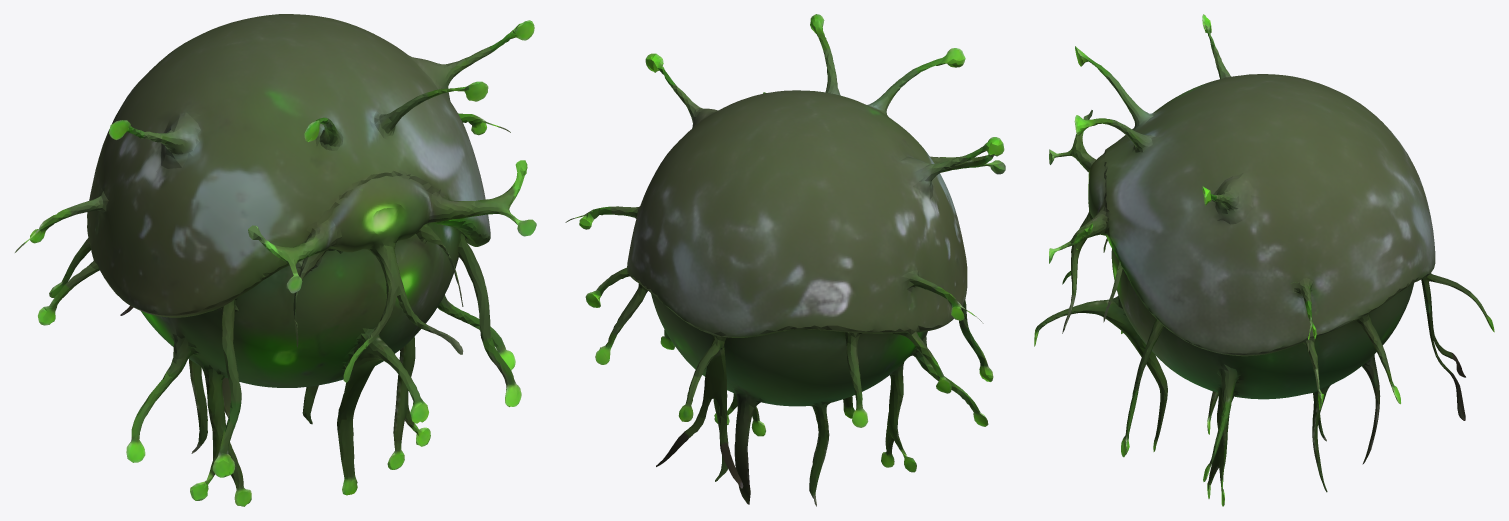
The model's file is bloom_drone_hifi.glb.
3 views of the same model, side by side, from view 1: azimuth 30°, elevation 25°; view 2: azimuth 150°, elevation 25°; view 3: azimuth 270°, elevation 25° (orthographic). The views are drawn at different scales.
Parts seen in each view (by area): view 1: bloom_drone_hifi; view 2: bloom_drone_hifi; view 3: bloom_drone_hifi.
Part boxes in pixels (<box>): bloom_drone_hifi: <box>15,14,536,506</box>; bloom_drone_hifi: <box>565,14,1005,506</box>; bloom_drone_hifi: <box>1034,14,1494,506</box>.
Size of the model in its own units: 1.89 by 1.61 by 1.74.
Materials: 1 (1 with a texture image).
